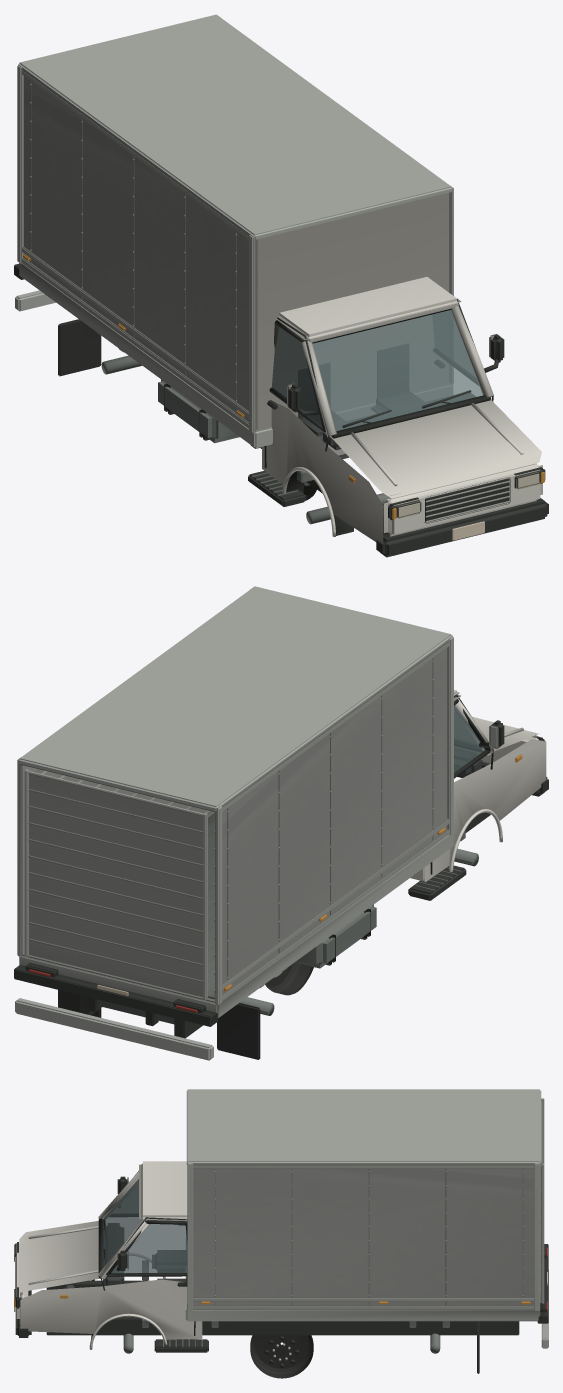
File: harbor-box-truck.glb
3 views of the same model, one above another, from view 1: azimuth 30°, elevation 25°; view 2: azimuth 150°, elevation 25°; view 3: azimuth 270°, elevation 25° (orthographic). The views are drawn at different scales.
Visible parts, largest first — view 1: Frame, Windshield, Bonnet, GlassFrontL, GlassFrontR; view 2: Frame, CargoSlat10, CargoSlat00, CargoSlat07, CargoSlat09, CargoSlat04, CargoSlat08, CargoSlat01, CargoSlat02, CargoSlat05, CargoSlat03, CargoSlat06 (+3 smaller); view 3: Frame, Bonnet, GlassFrontR, WheelPrototype, Windshield, GlassFrontL.
Part boxes in pixels (left/top/right/bottom): Frame: left=14, top=14, right=548, bottom=557; Windshield: left=312, top=310, right=483, bottom=430; Bonnet: left=331, top=399, right=541, bottom=498; GlassFrontL: left=271, top=326, right=321, bottom=423; GlassFrontR: left=433, top=311, right=475, bottom=377; Frame: left=14, top=586, right=548, bottom=1060; CargoSlat10: left=28, top=771, right=207, bottom=830; CargoSlat00: left=28, top=938, right=207, bottom=997; CargoSlat07: left=28, top=822, right=207, bottom=880; CargoSlat09: left=28, top=788, right=207, bottom=847; CargoSlat04: left=28, top=872, right=207, bottom=930; CargoSlat08: left=28, top=805, right=207, bottom=864; CargoSlat01: left=28, top=921, right=207, bottom=980; CargoSlat02: left=28, top=905, right=207, bottom=963; CargoSlat05: left=28, top=855, right=207, bottom=913; CargoSlat03: left=28, top=888, right=207, bottom=947; CargoSlat06: left=28, top=838, right=207, bottom=897; Frame: left=14, top=1089, right=548, bottom=1373; Bonnet: left=19, top=1221, right=100, bottom=1292; GlassFrontR: left=111, top=1224, right=187, bottom=1273; WheelPrototype: left=250, top=1335, right=313, bottom=1378; Windshield: left=102, top=1179, right=142, bottom=1268; GlassFrontL: left=112, top=1184, right=138, bottom=1213.
Size of the model in its own units: 2.31 by 3.47 by 6.7.
Materials: 12 (1 with a texture image).
